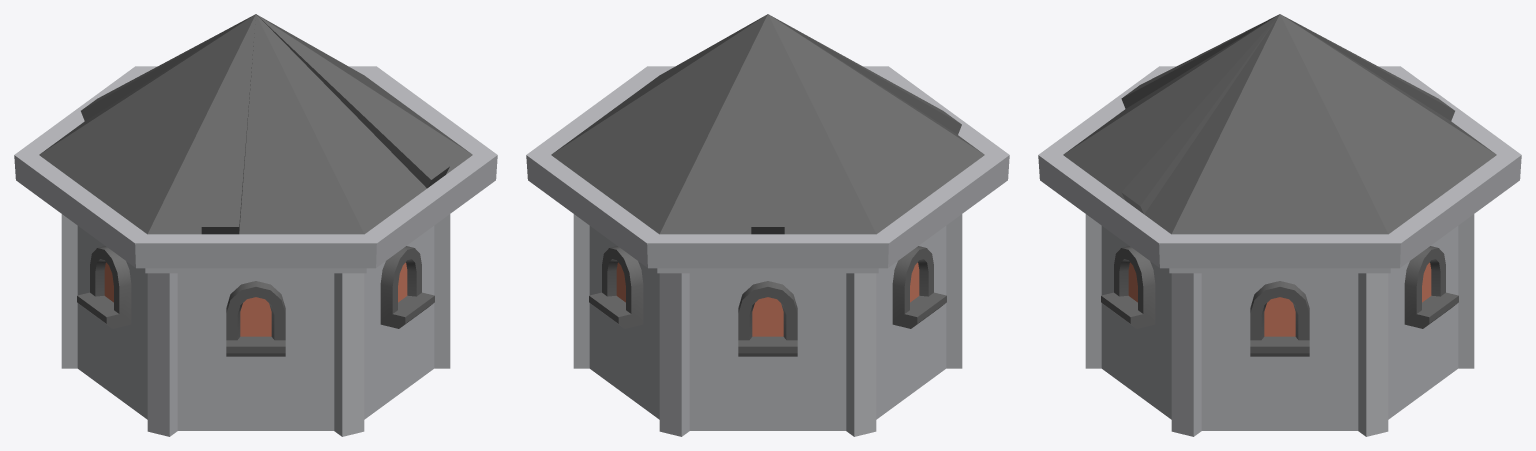
The model's file is Tower_Top.fbx.
3 views of the same model, side by side, from view 1: azimuth 30°, elevation 25°; view 2: azimuth 150°, elevation 25°; view 3: azimuth 270°, elevation 25° (orthographic).
Parts seen in each view (by area): view 1: Tower_Top; view 2: Tower_Top; view 3: Tower_Top.
Boxes of the visible parts, <box> form: Tower_Top: <box>14,14,497,436</box>; Tower_Top: <box>526,14,1009,436</box>; Tower_Top: <box>1038,14,1521,436</box>.
Bounding box in the file's own units: 0.9933 × 0.9138 × 1.15.
1 material, 1 textured.
